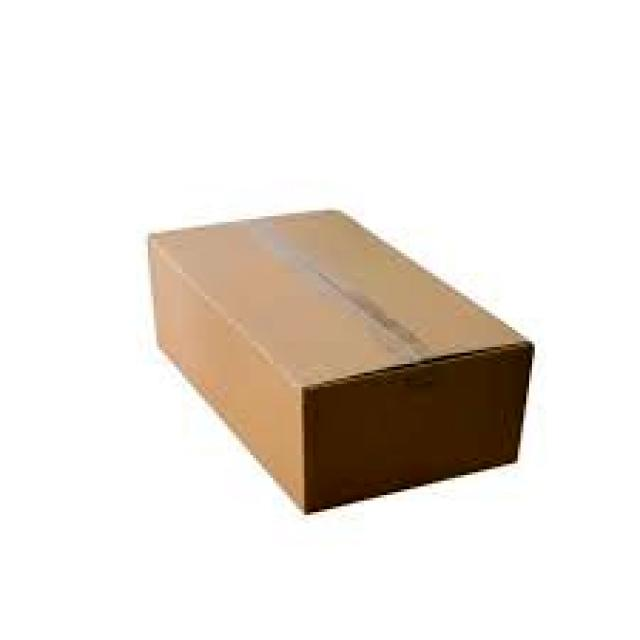Cardboard: (139, 199, 539, 521)
